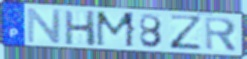8: (138, 13, 164, 49)
H: (63, 9, 98, 48)
M: (94, 10, 137, 49)
N: (26, 7, 64, 44)
R: (203, 15, 238, 53)
Z: (167, 13, 205, 51)
